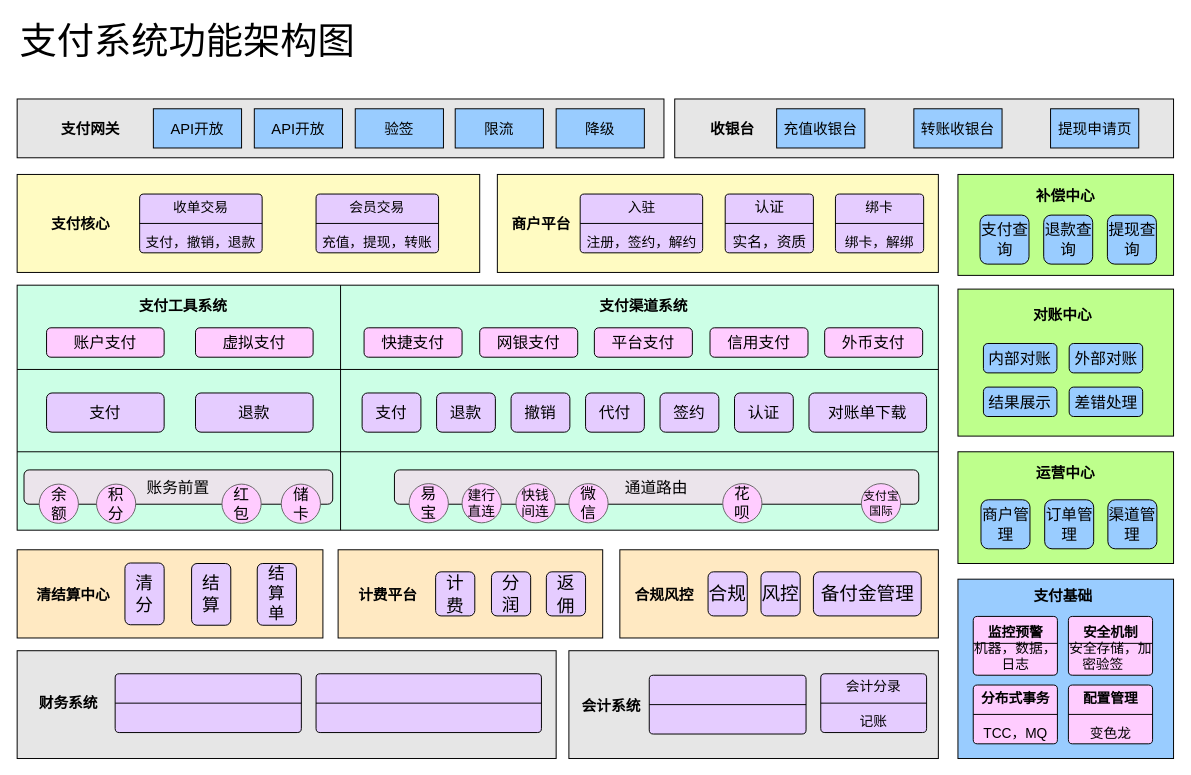
This 1191x775 diagram has some shape labels left out. Each missing label, with the centre of its shape:
日切 日切，汇总，试算平衡: [727,704]
账务 记账，平账，挂账，收支记录，对账单: [428,703]
账户 开户，冻结，解冻，止入，止出: [207,703]
